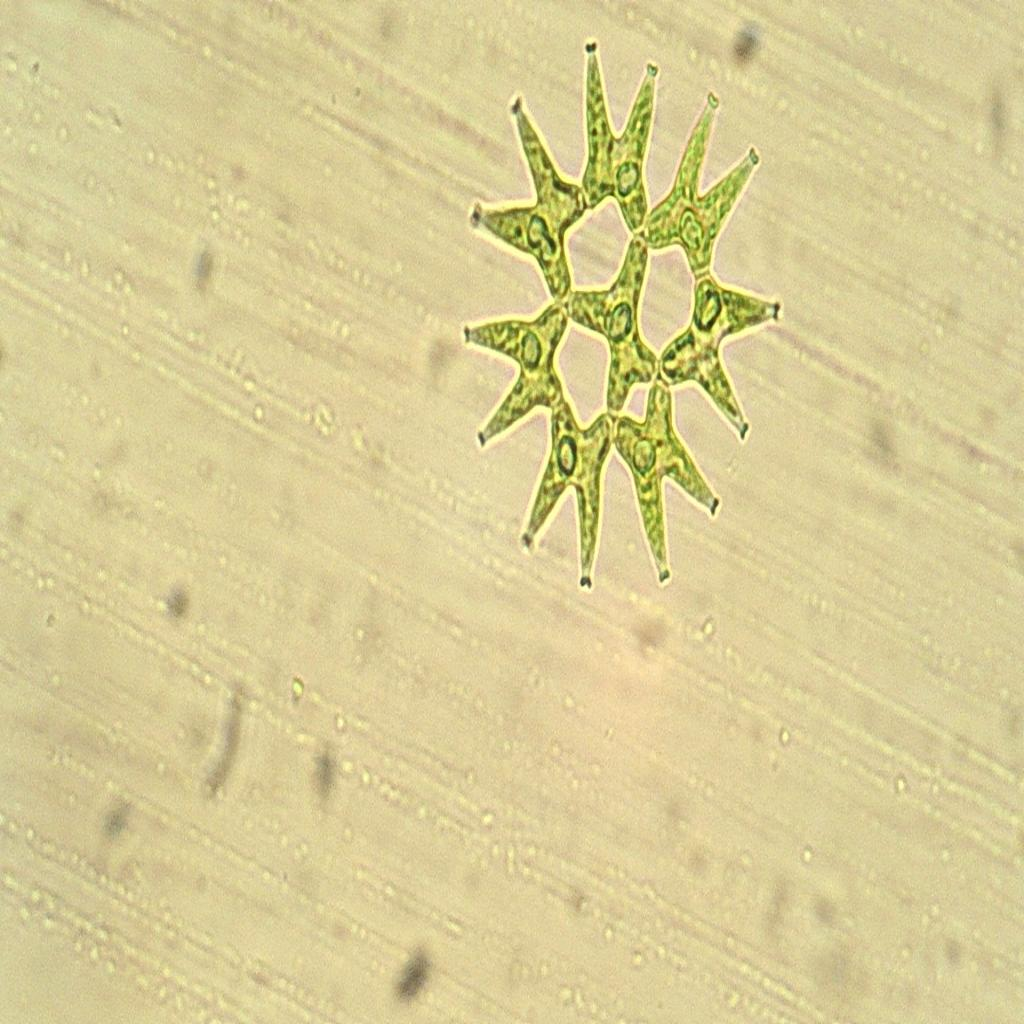Pediastrum_CTH: (457, 18, 798, 608)
